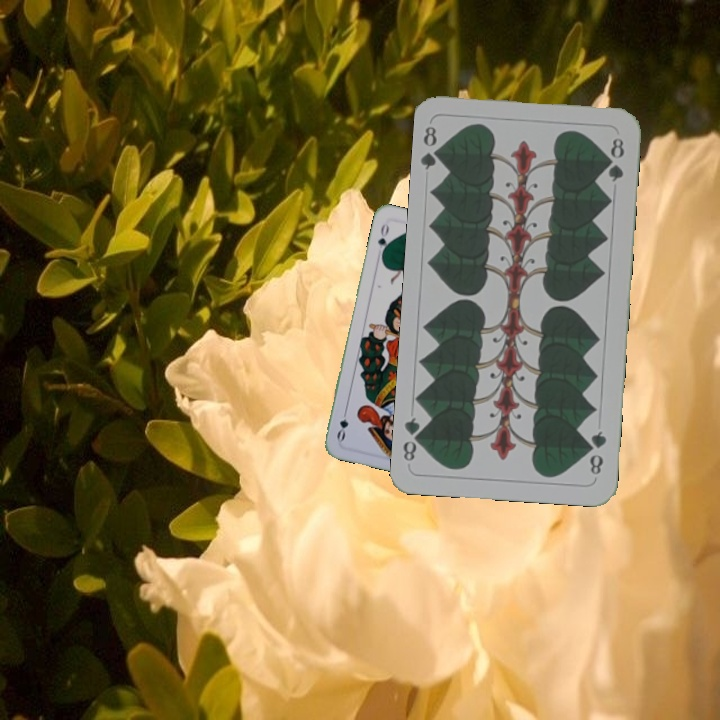G8: (418, 122, 446, 172), (584, 426, 609, 478)
GO: (374, 219, 392, 259)
